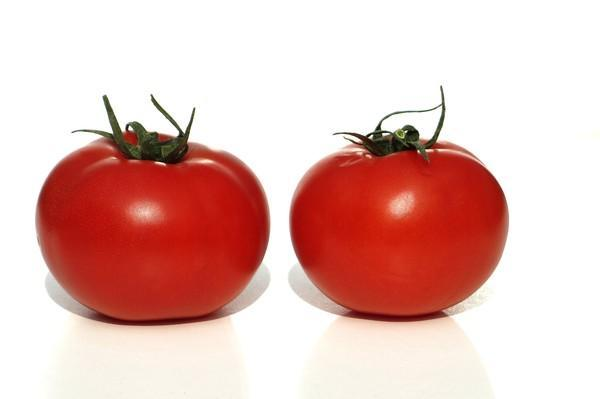healthy-tomato: (36, 102, 273, 324), (288, 105, 512, 322)
